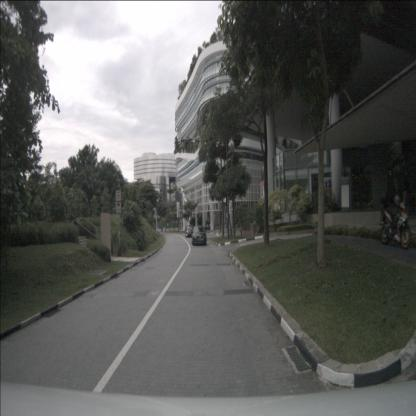vehicle-car: (192, 225, 206, 246), (185, 225, 194, 238)
vehicle-motorcycle: (379, 194, 411, 250)
